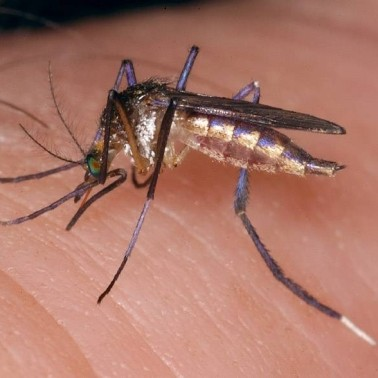dengue_mosquito: (1, 42, 356, 327)
